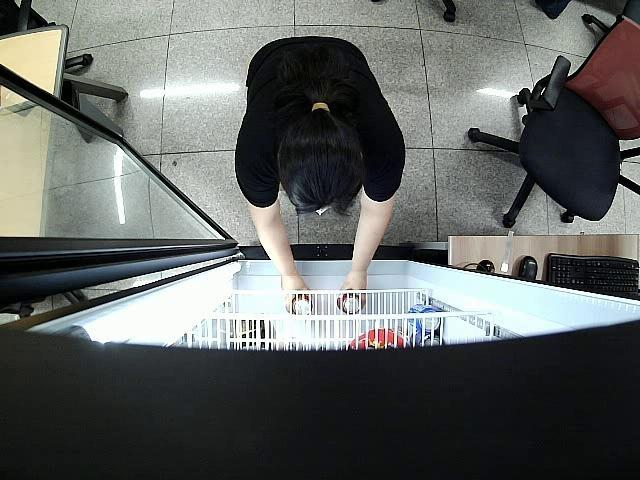11_cocaColaZero: (337, 289, 362, 313), (289, 296, 313, 316)
